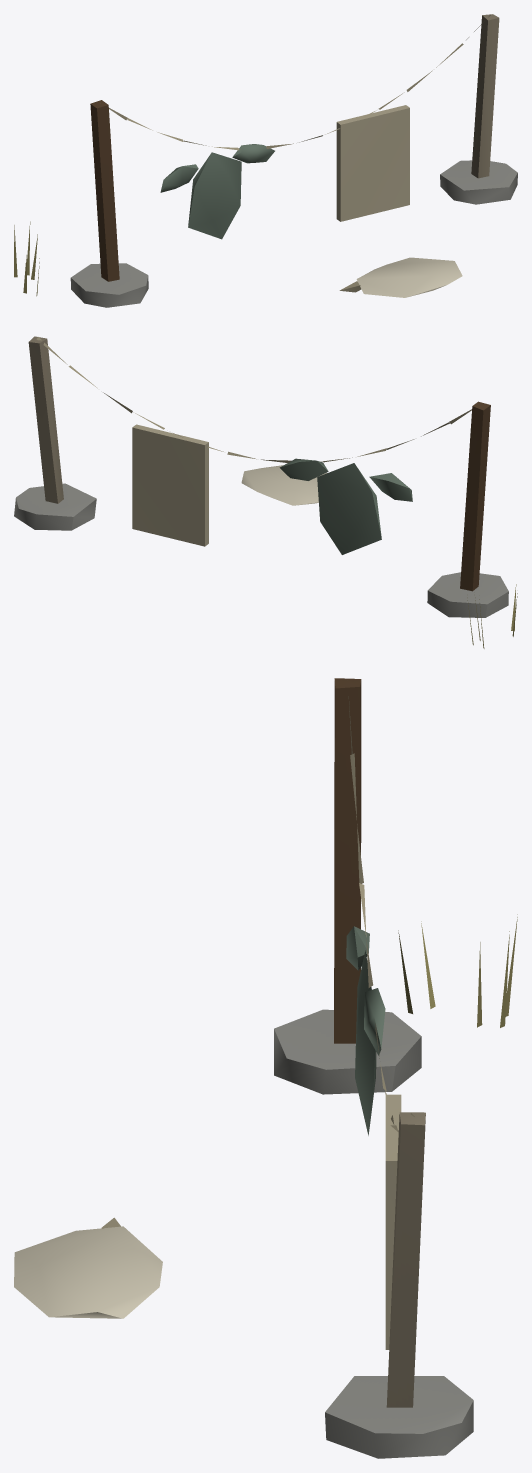
File: laundry_line_b_lod2.glb
3 renders of one model, top to bottom at view 1: azimuth 30°, elevation 25°; view 2: azimuth 150°, elevation 25°; view 3: azimuth 270°, elevation 25°, orthographic. The views are drawn at different scales.
Parts seen in each view (by area): view 1: Surface.001; view 2: Surface.001; view 3: Surface.001.
Boxes of the visible parts, x1,y1,x2,y2 form: Surface.001: [14, 14, 517, 307]; Surface.001: [14, 336, 517, 648]; Surface.001: [14, 678, 517, 1458].
Bounding box in the file's own units: 4.76 × 1.84 × 2.22.
